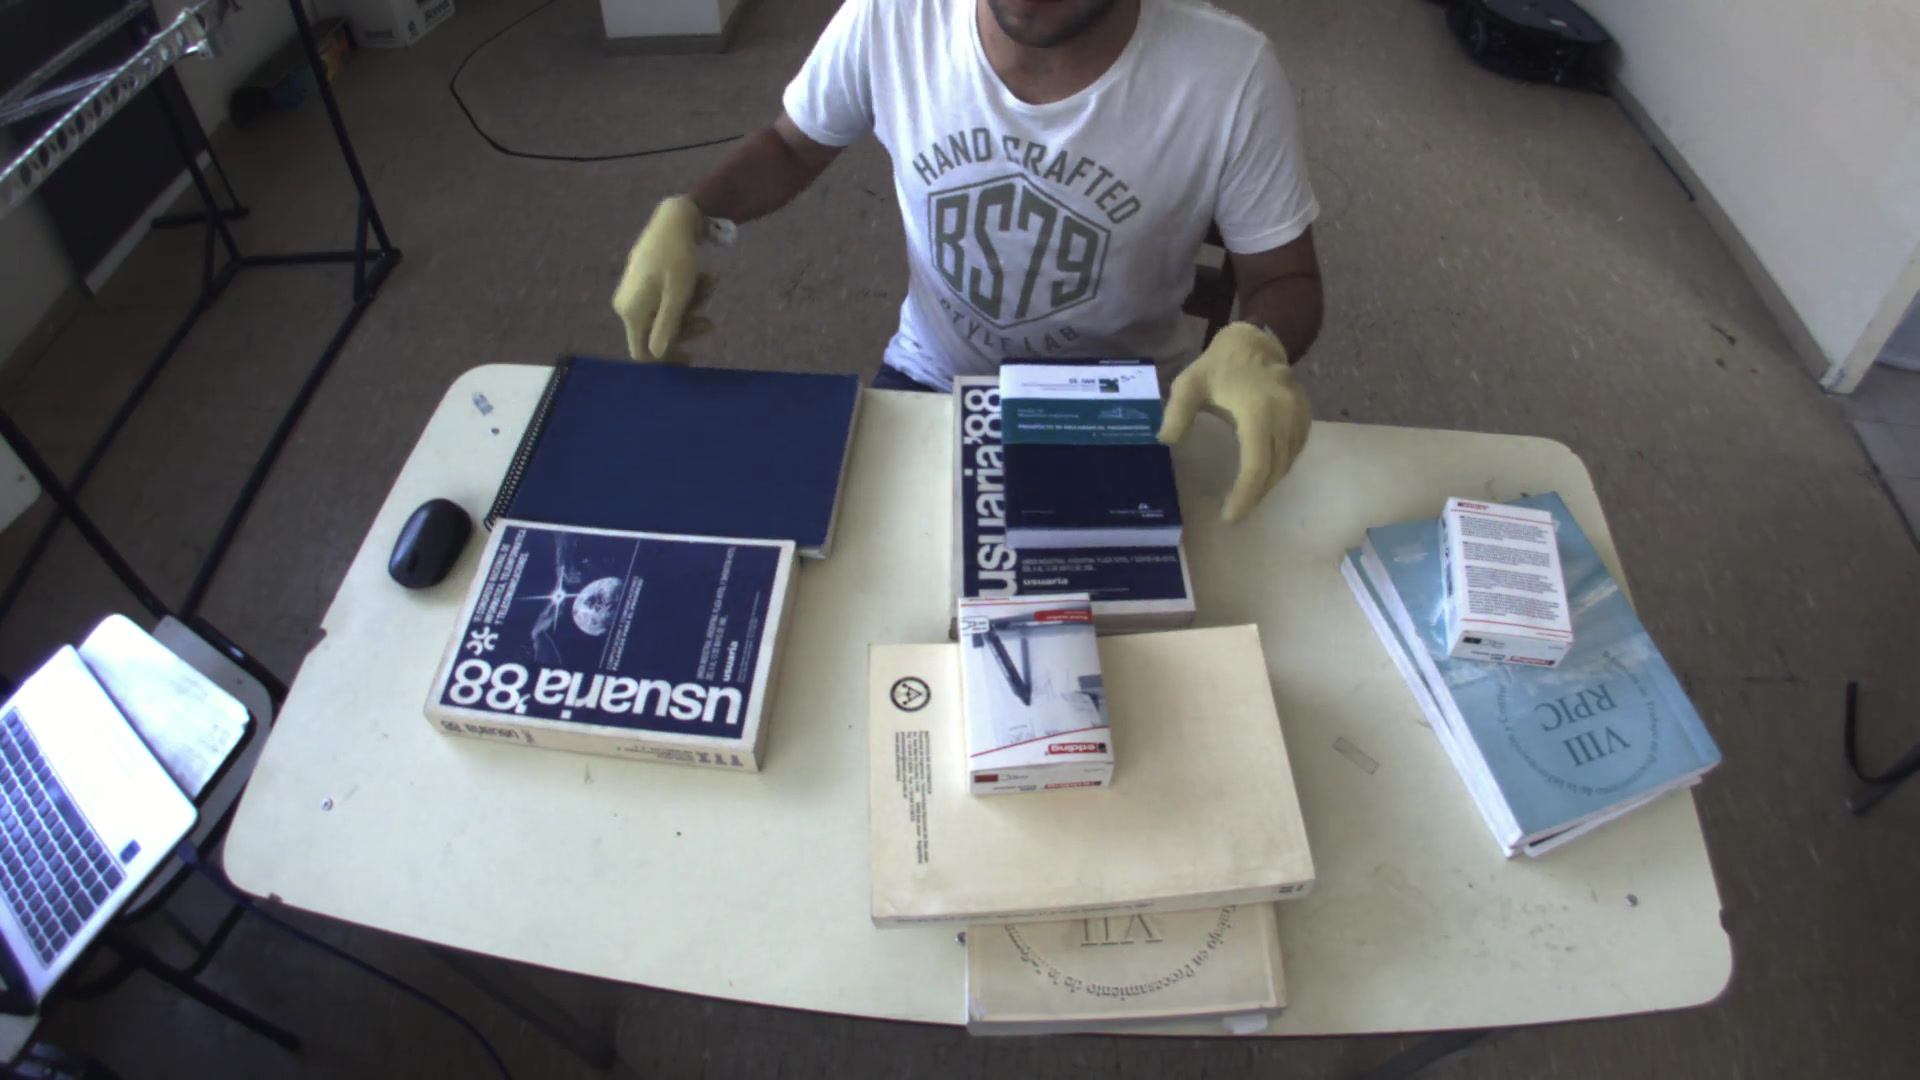hand: (1154, 313, 1328, 531), (600, 189, 728, 359)
